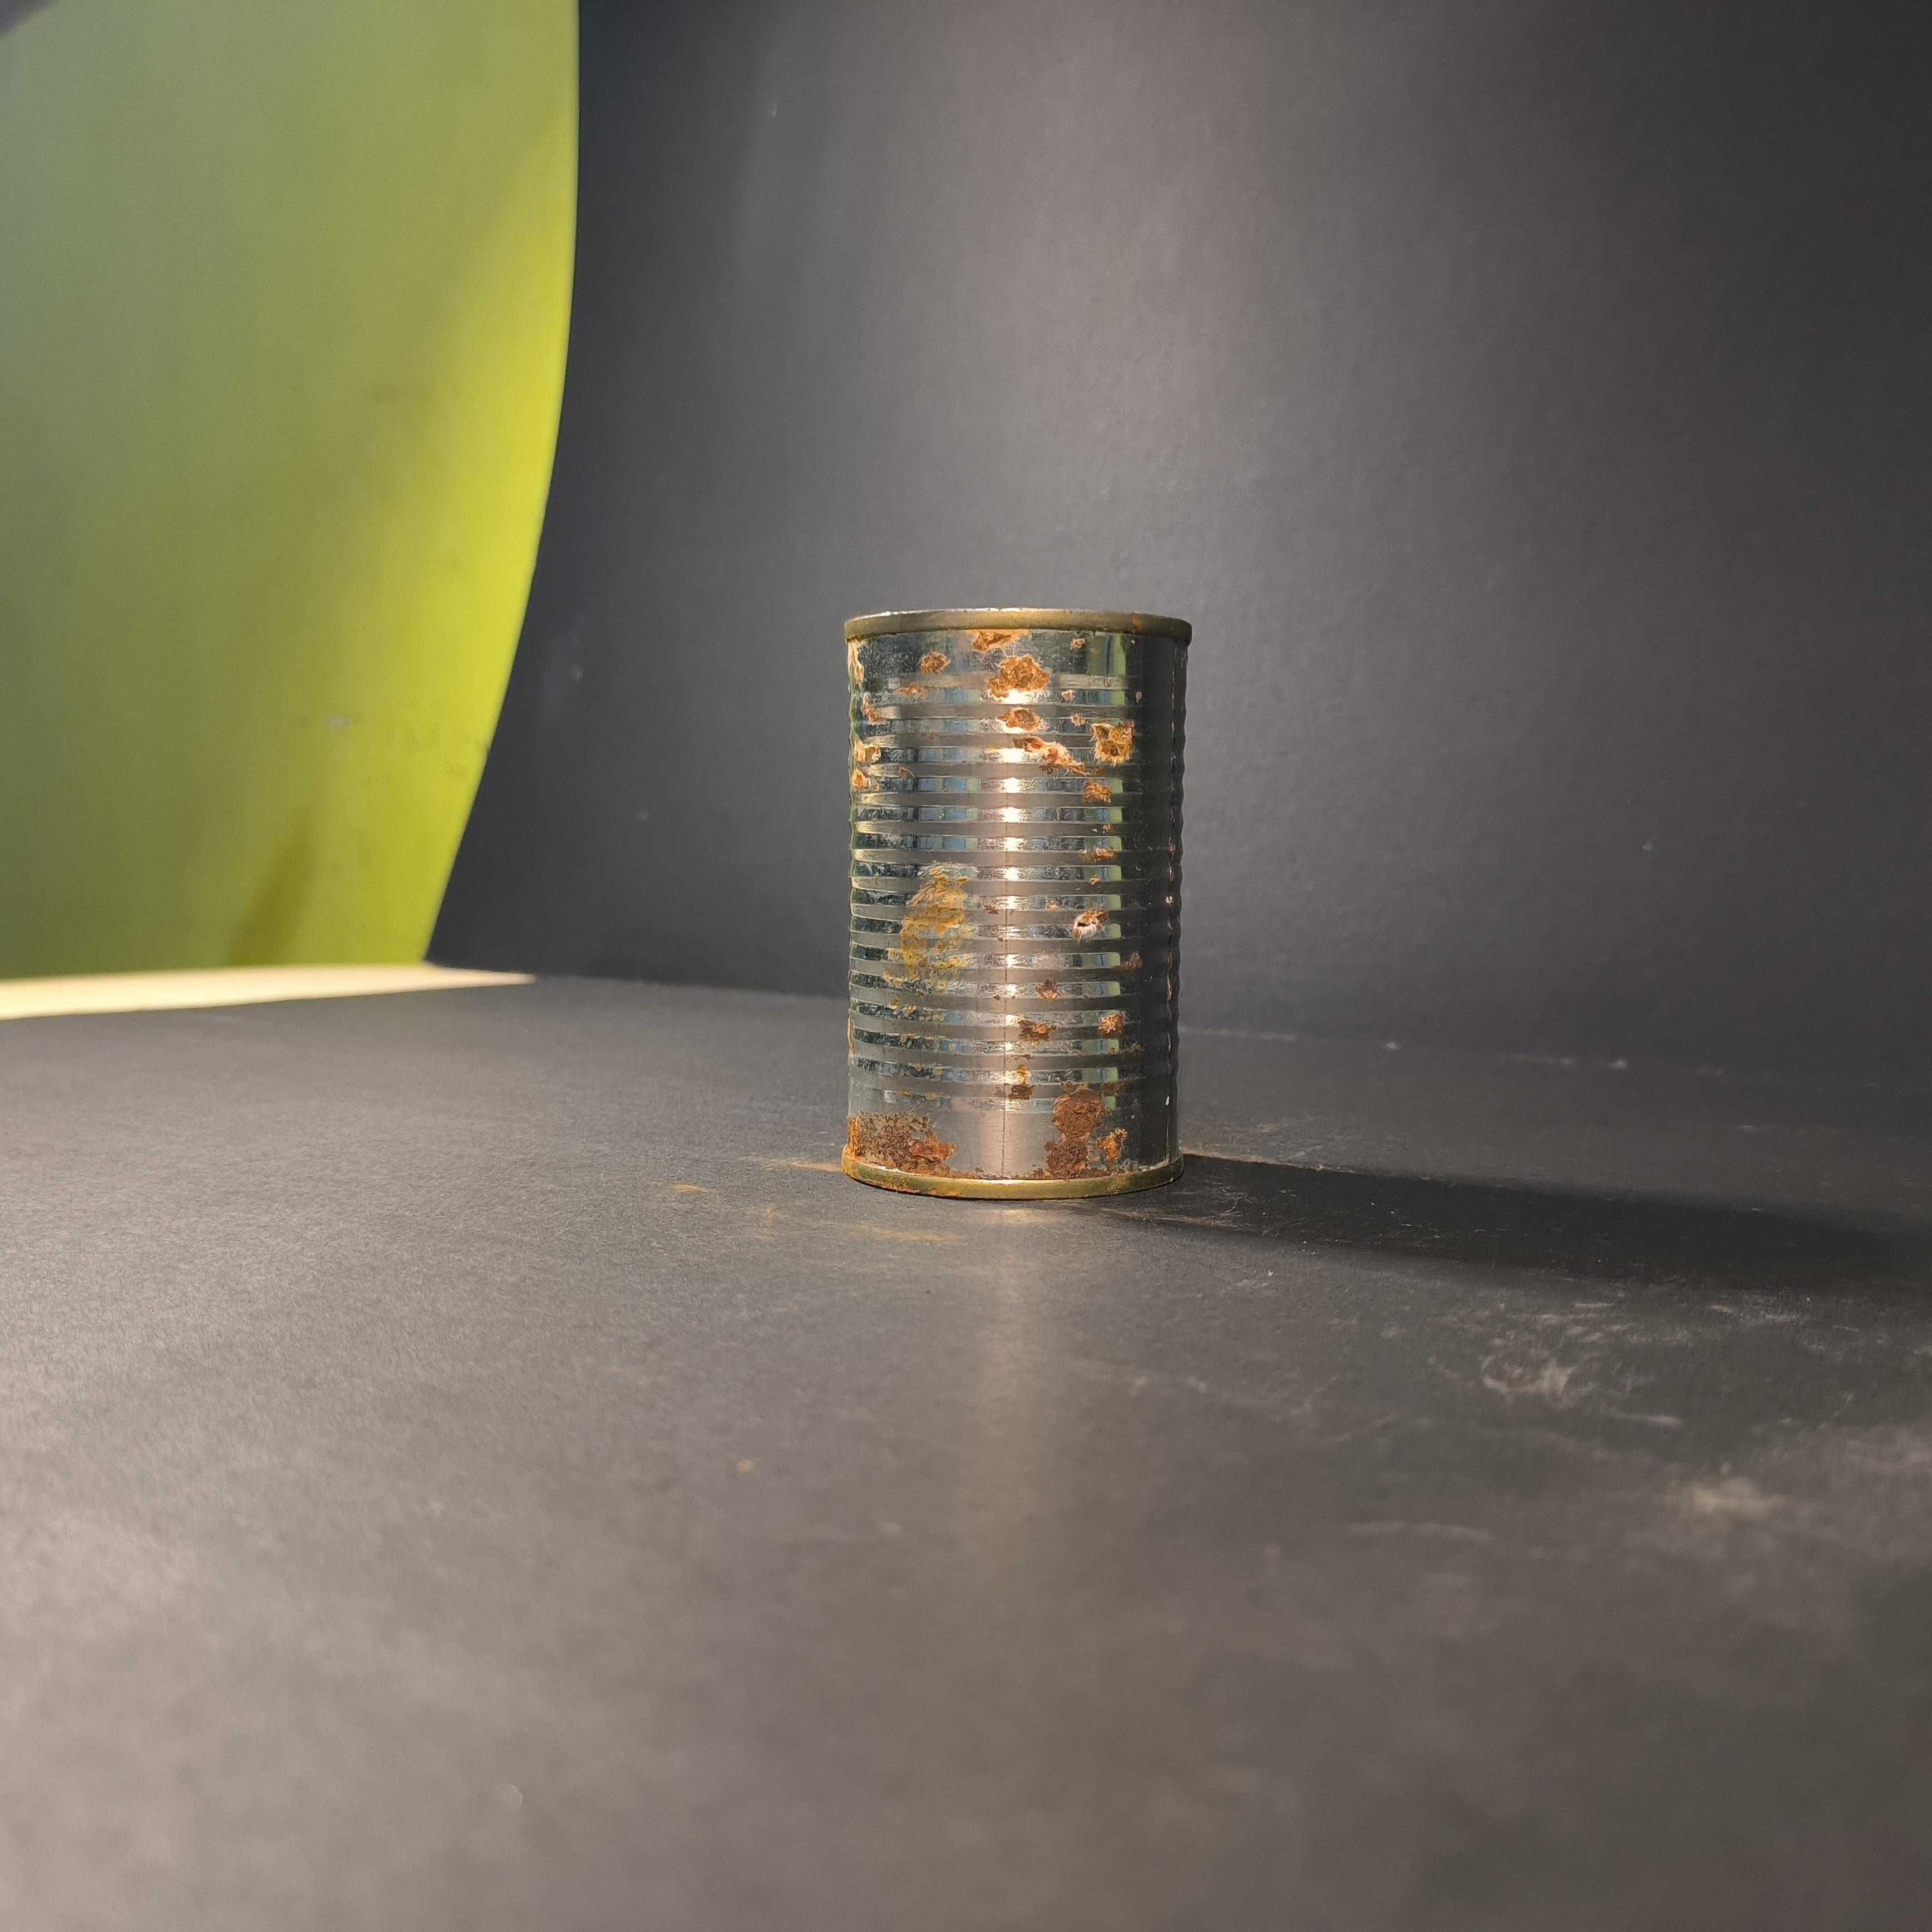Rusted: (816, 584, 1205, 1235)
